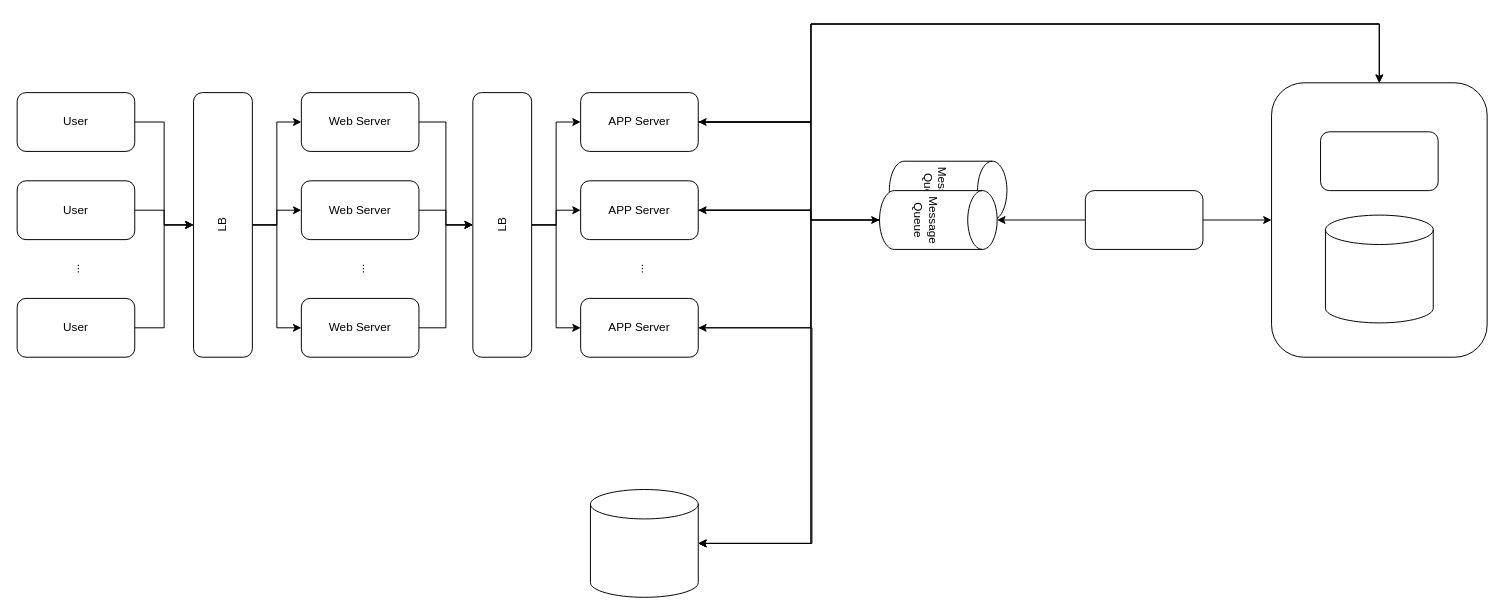
The diagram is 1504 pixels wide and 614 high, and some of its shapes have lost their labels. The box of each missing label's shape, as (x1, y1, x2, y2) in pixels:
Cache: (1320, 131, 1438, 191)
Chatroom DB (fetching incr_ID): (589, 489, 698, 597)
DB: (1324, 214, 1433, 323)
subscribe to queue & sync to cache (write through DB): (1084, 190, 1203, 249)
